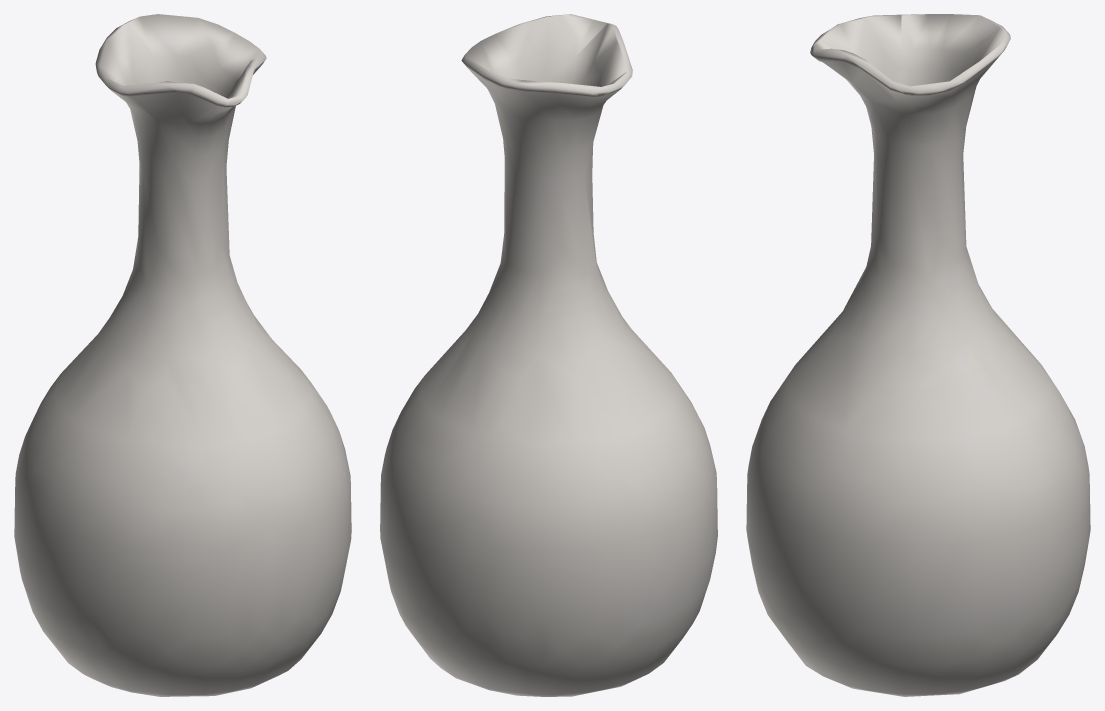
The model's file is vase.glb.
The picture shows the model from 3 angles, left to right: view 1: azimuth 30°, elevation 25°; view 2: azimuth 150°, elevation 25°; view 3: azimuth 270°, elevation 25°; orthographic projection.
Visible parts, largest first — view 1: ceramic_vase_01; view 2: ceramic_vase_01; view 3: ceramic_vase_01.
Part boxes in pixels (x1,y1,x2,y2): ceramic_vase_01: (14,14,351,696); ceramic_vase_01: (380,14,717,696); ceramic_vase_01: (746,14,1090,696).
Size of the model in its own units: 0.2026 by 0.4002 by 0.2026.
Materials: 1 (1 with a texture image).
